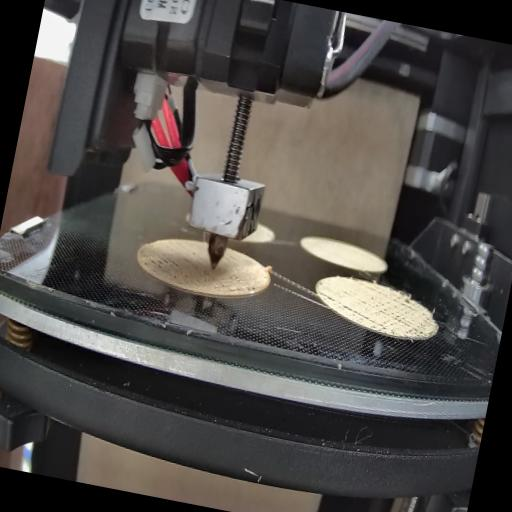under_extrusion: (339, 282, 441, 342), (136, 242, 198, 284), (218, 270, 261, 304), (314, 286, 340, 308)
